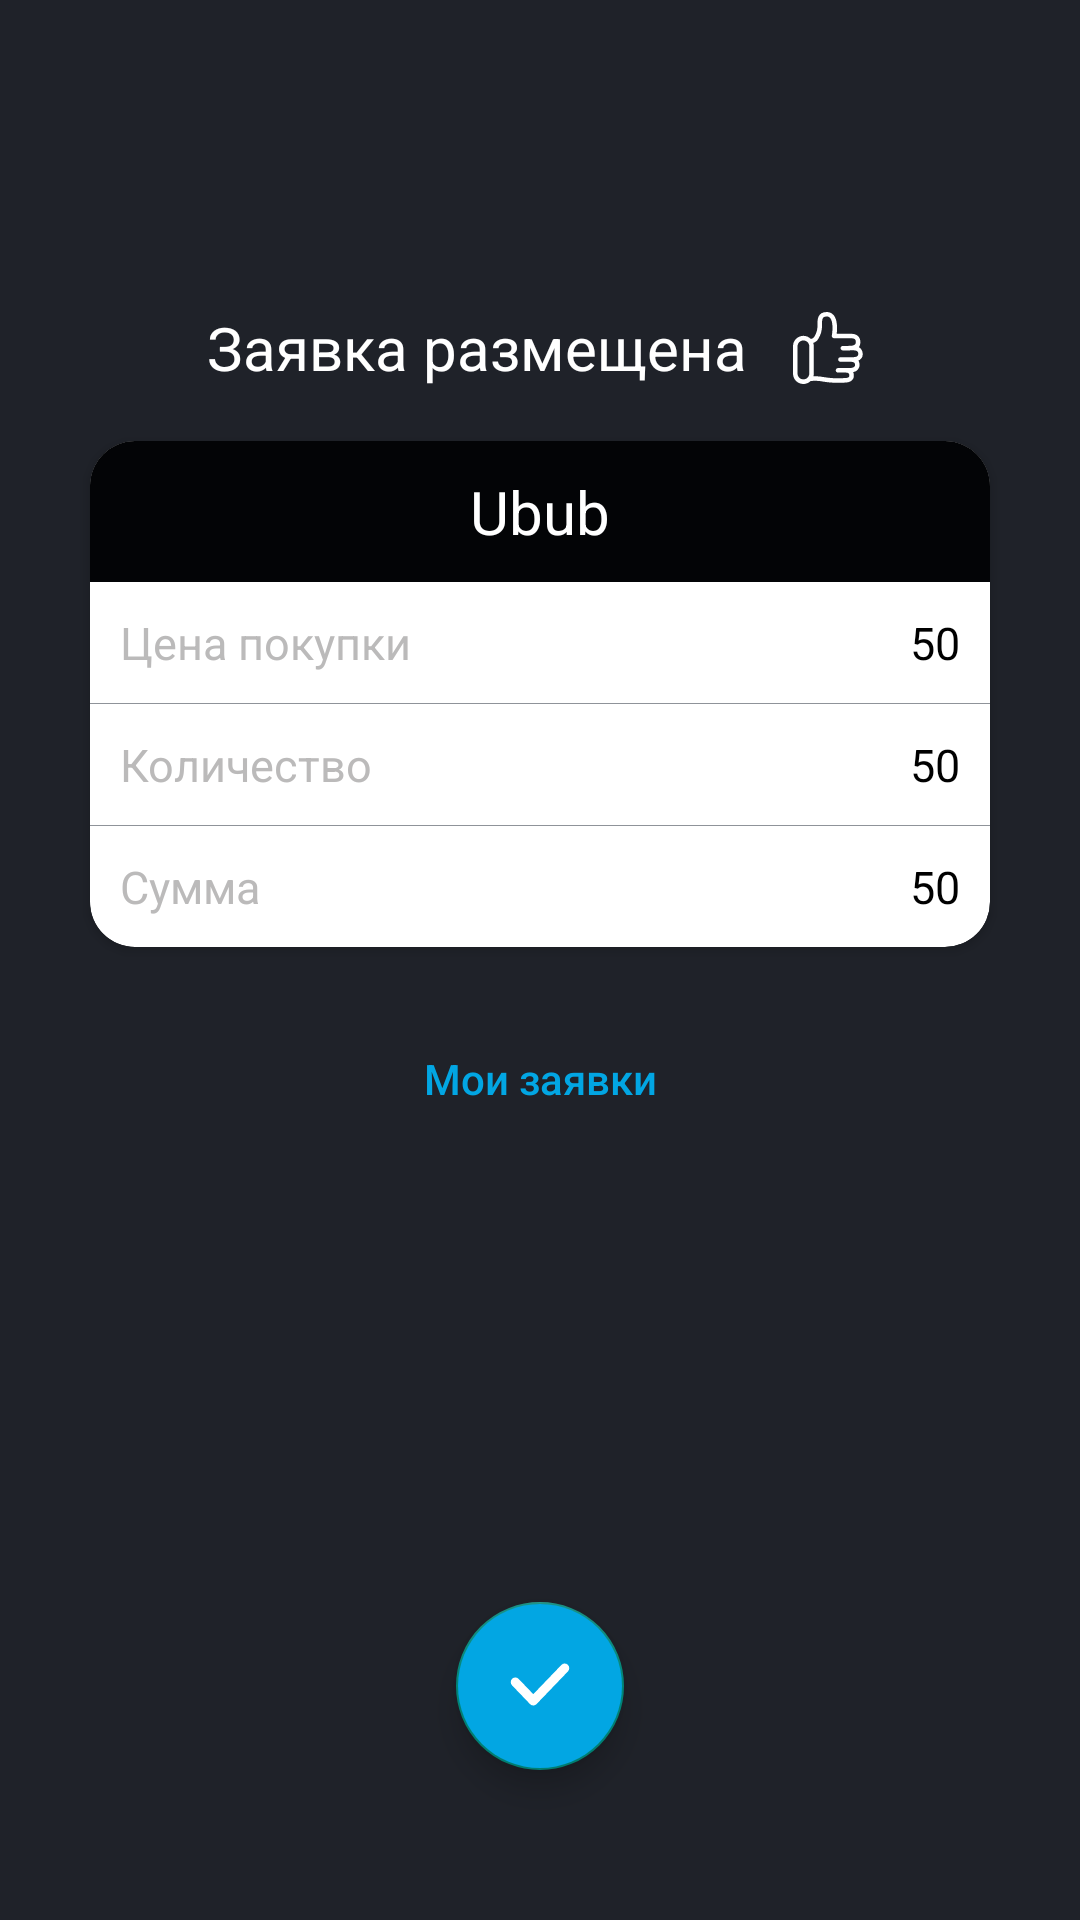

Screen size 1080x1920. Icon name, then its center in pixels as (x,y):
check: (540,1686)
like: (828,348)
